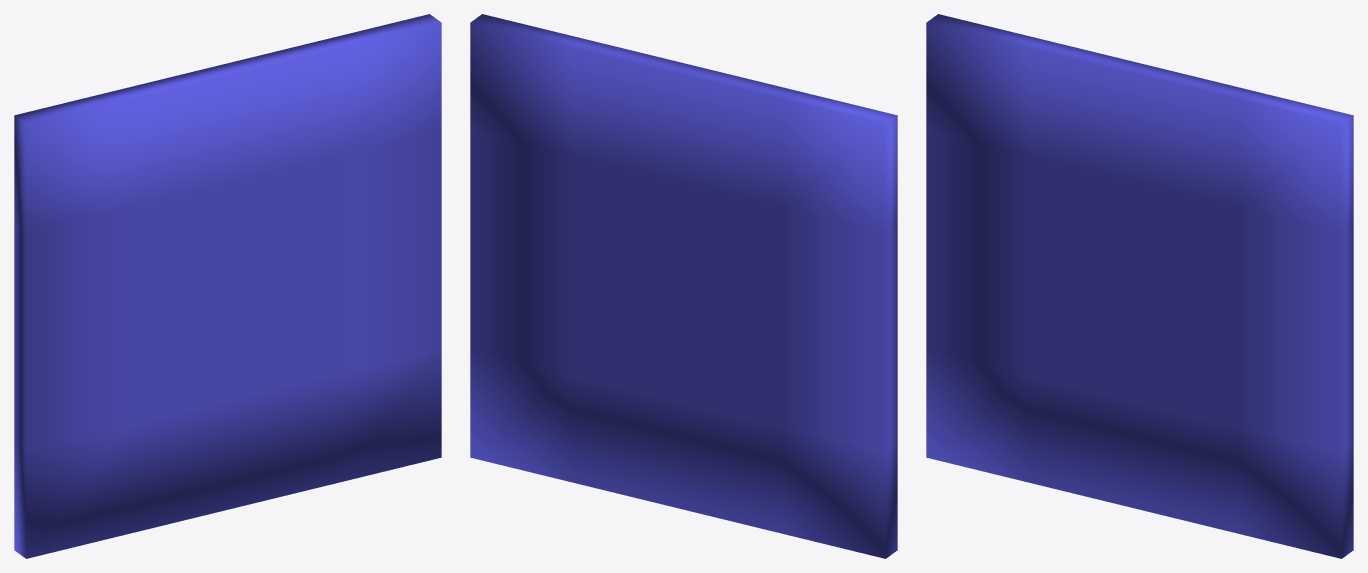
File: start_platform001.001.obj
3 views of the same model, side by side, from view 1: azimuth 30°, elevation 25°; view 2: azimuth 150°, elevation 25°; view 3: azimuth 330°, elevation 25° (orthographic).
Visible parts, largest first — view 1: start_platform001.001; view 2: start_platform001.001; view 3: start_platform001.001.
Boxes of the visible parts, x1=… form: start_platform001.001: x1=14, y1=14, x2=441, y2=558; start_platform001.001: x1=470, y1=14, x2=897, y2=558; start_platform001.001: x1=926, y1=14, x2=1353, y2=558.
Size of the model in its own units: 2 by 2 by 0.1.
